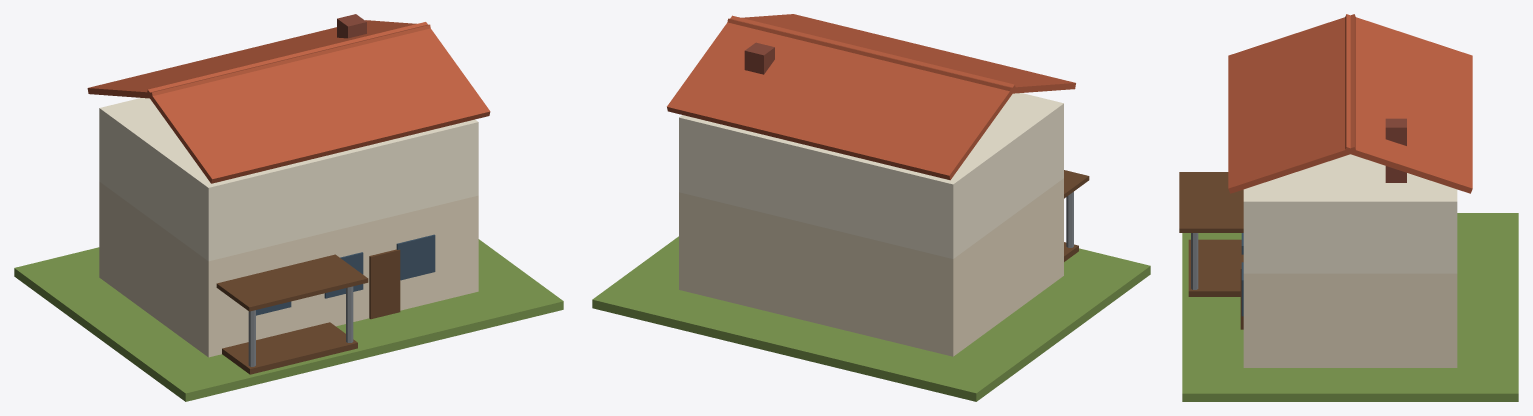
The model's file is building.farm-house.glb.
The picture shows the model from 3 angles, left to right: view 1: azimuth 30°, elevation 25°; view 2: azimuth 150°, elevation 25°; view 3: azimuth 270°, elevation 25°; orthographic projection. The views are drawn at different scales.
Parts seen in each view (by area): view 1: building.farm-house; view 2: building.farm-house; view 3: building.farm-house.
Part boxes in pixels (x1,y1,x2,y2): building.farm-house: (14,14,563,401); building.farm-house: (592,14,1150,401); building.farm-house: (1179,14,1518,401).
Size of the model in its own units: 14 by 8.35 by 11.1.
